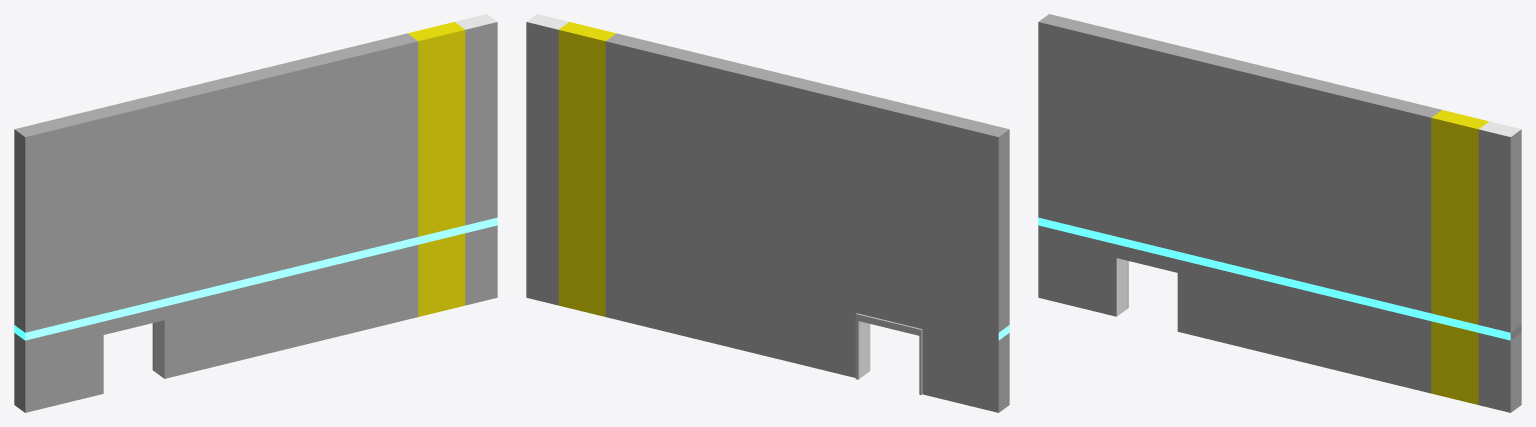
The model's file is 3rd room left wall.fbx.
3 renders of one model, left to right at view 1: azimuth 30°, elevation 25°; view 2: azimuth 150°, elevation 25°; view 3: azimuth 330°, elevation 25°, orthographic.
Visible parts, largest first — view 1: Cube.012; view 2: Cube.012; view 3: Cube.012.
Boxes of the visible parts, x1=… form: Cube.012: x1=14, y1=14, x2=497, y2=412; Cube.012: x1=526, y1=14, x2=1009, y2=412; Cube.012: x1=1038, y1=14, x2=1521, y2=412.
Size of the model in its own units: 2516 by 1404 by 110.
